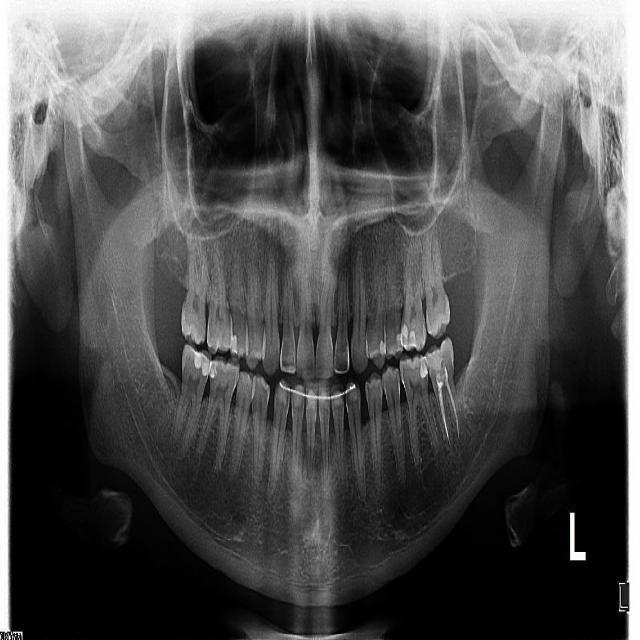Filling: (425, 337, 449, 370), (192, 350, 212, 375), (400, 323, 417, 350), (419, 358, 428, 379), (230, 334, 237, 355), (210, 360, 218, 378), (395, 335, 403, 351), (379, 339, 386, 355)
Root Canal Treatment: (447, 380, 459, 438), (438, 382, 448, 440)
